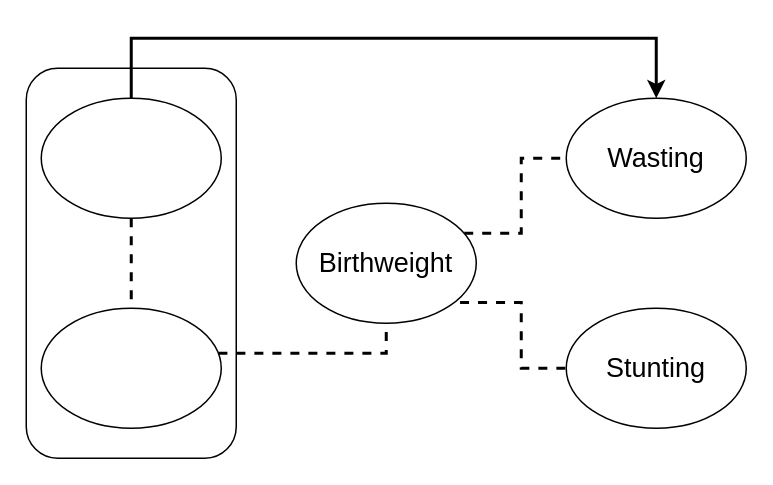
The diagram is 773 pixels wide and 485 high, and some of its shapes have lost their labels. The shapes that lost their labels are listed below. From the top down, each one's centre as x and y in pixels, then its label:
the point at 130,157: X-factor
the point at 130,367: Maternal BMI
